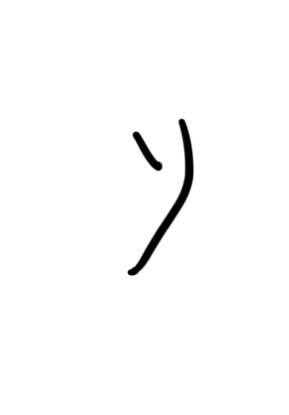so: (106, 116, 197, 277)
